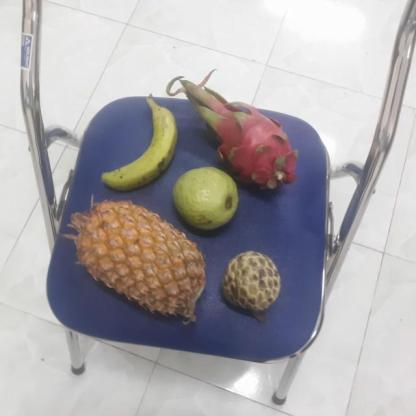annona: (217, 252, 280, 315)
banana: (101, 102, 179, 193)
guava: (168, 168, 239, 231)
pineapple: (67, 201, 204, 320)
pitaya: (193, 98, 292, 191)
